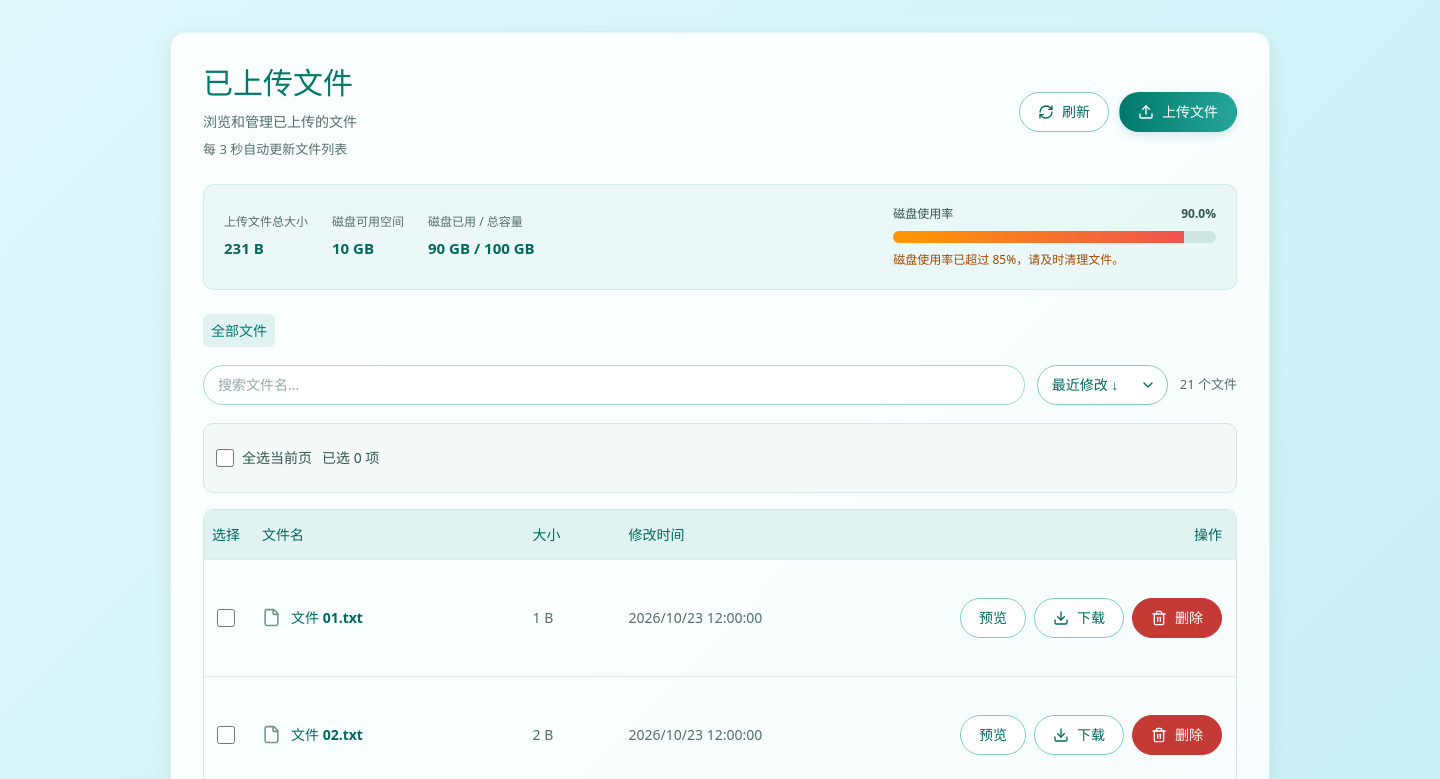
Scenario: keeps the selection after transport failure and blocks duplicate mutations while deleting
This screenshot has width=1440, height=779.
Expected: the text "文件 01.txt" is shown, [291, 607, 363, 628]
Click the checkbox named "选择 文件 01.txt". click: (226, 618)
box: [217, 608, 235, 626]
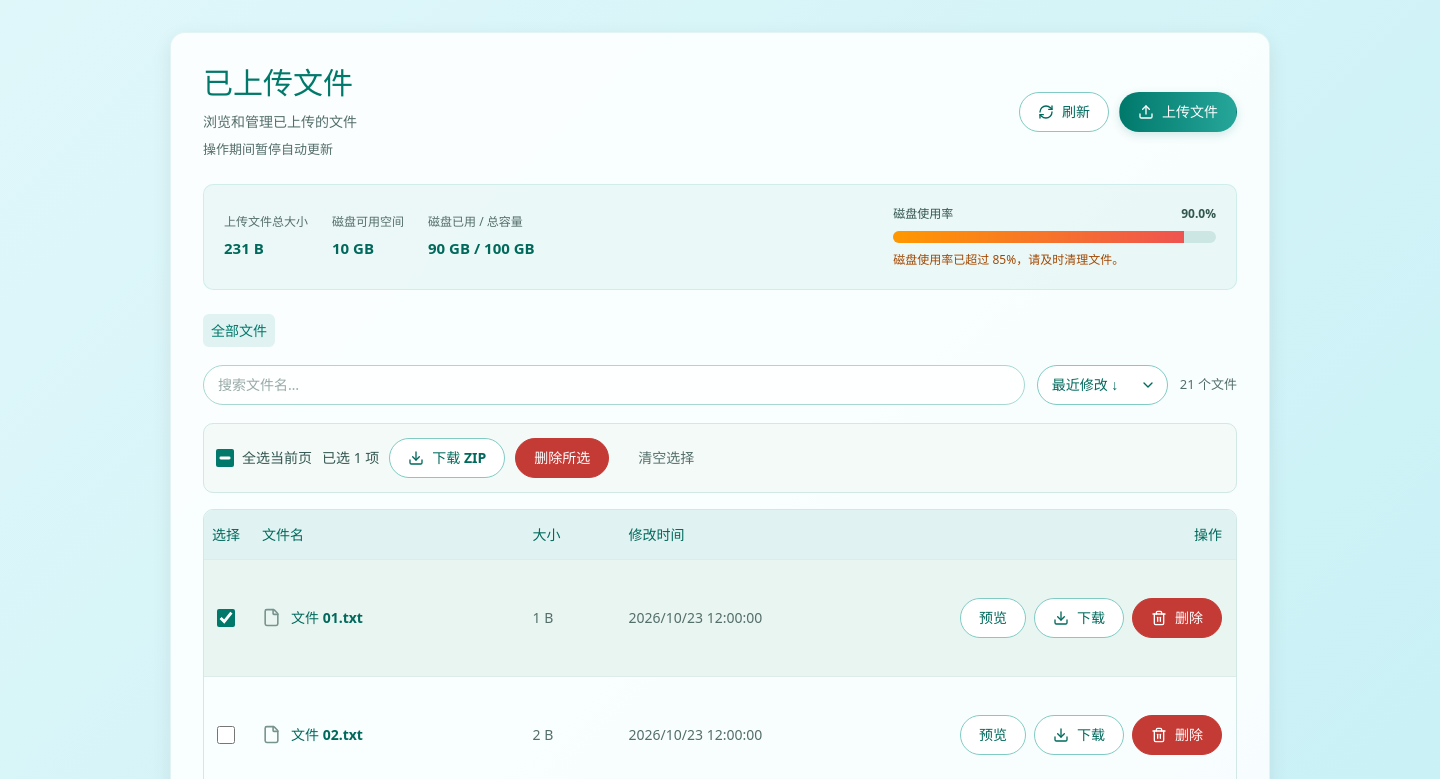
Click the button "删除所选". click: (562, 458)
box: [515, 438, 609, 478]
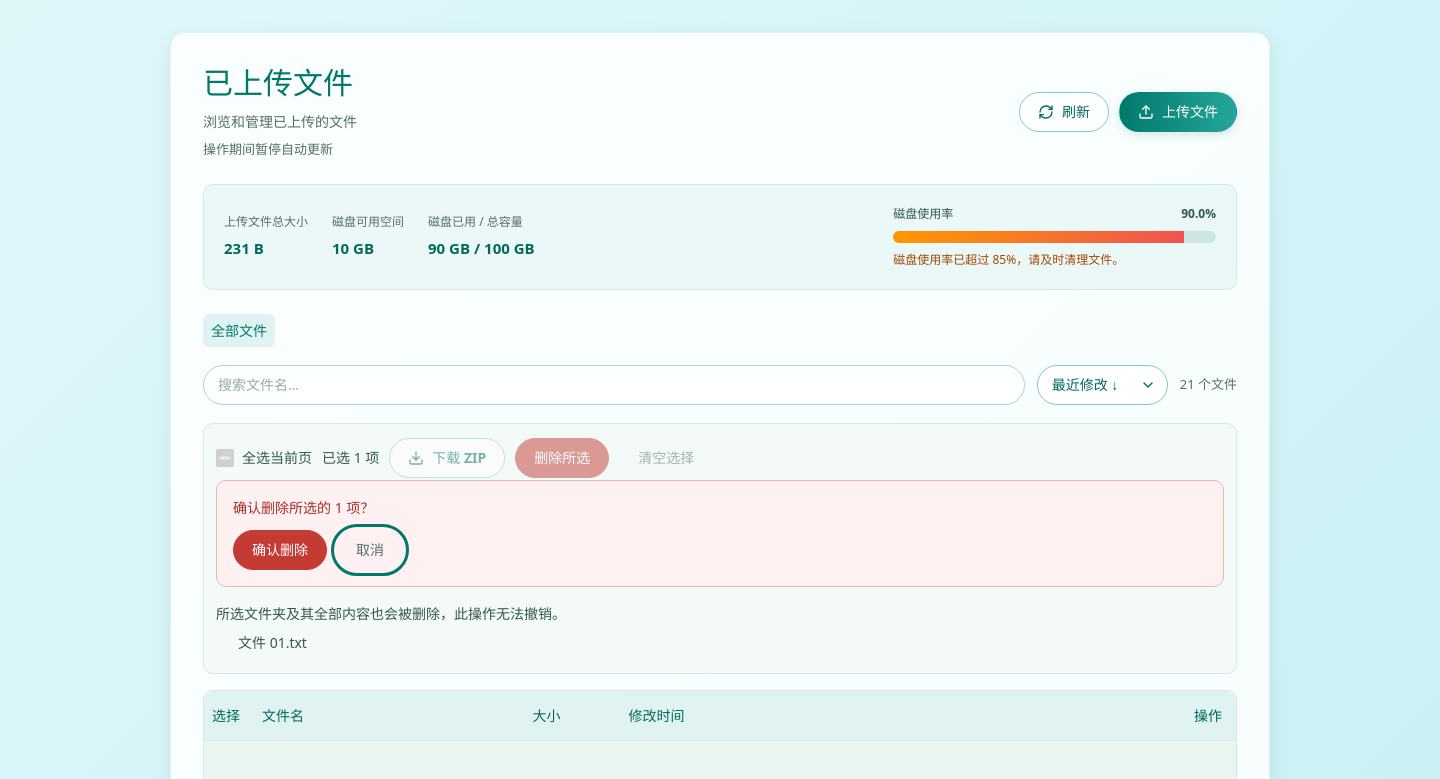
Click the button "确认删除". click: (280, 550)
box: [233, 530, 327, 570]
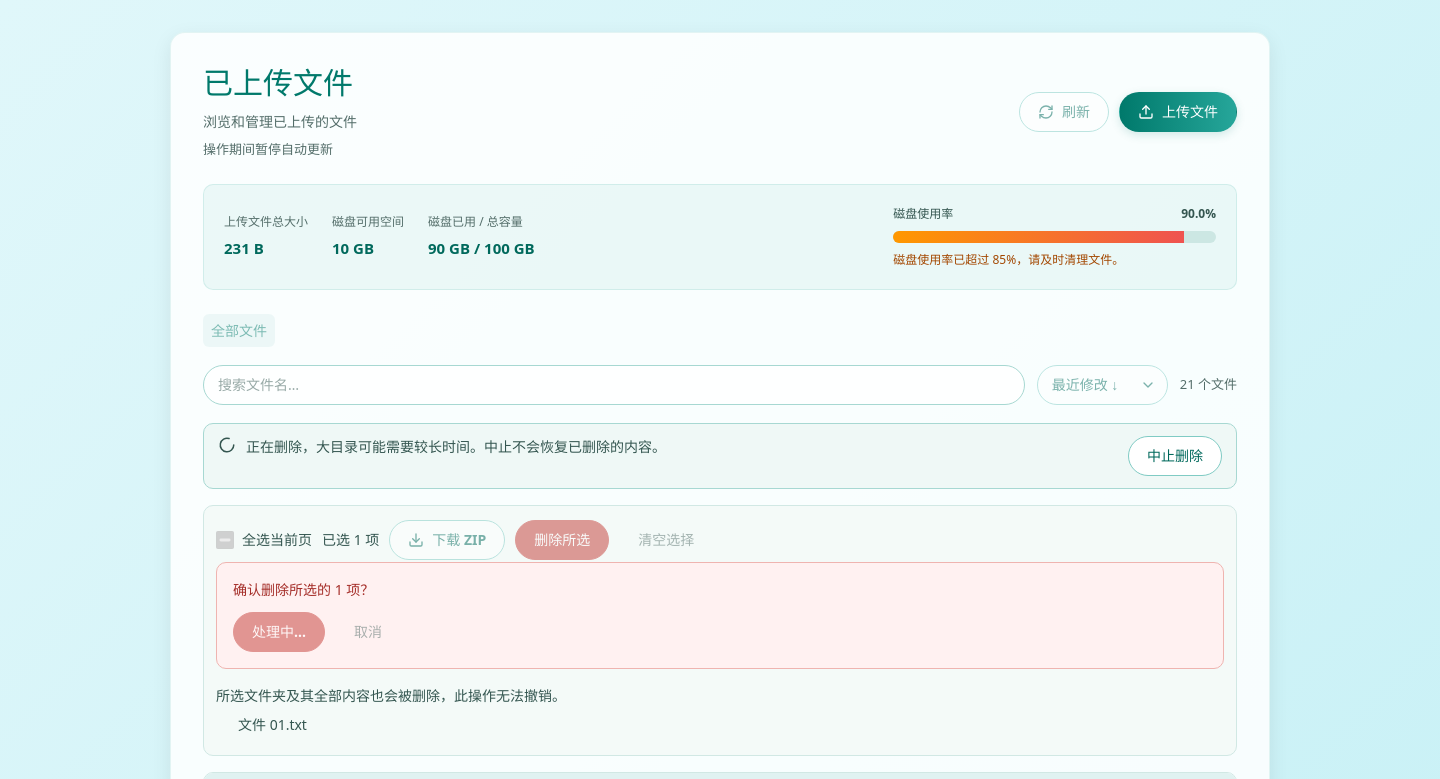
Expected: the search field is disabled, [203, 364, 1025, 404]
Now the checkbox labelled "全选当前页" is disabled, box [216, 530, 234, 548]
Click the button "处理中…". click: (279, 632)
box: [233, 612, 325, 652]
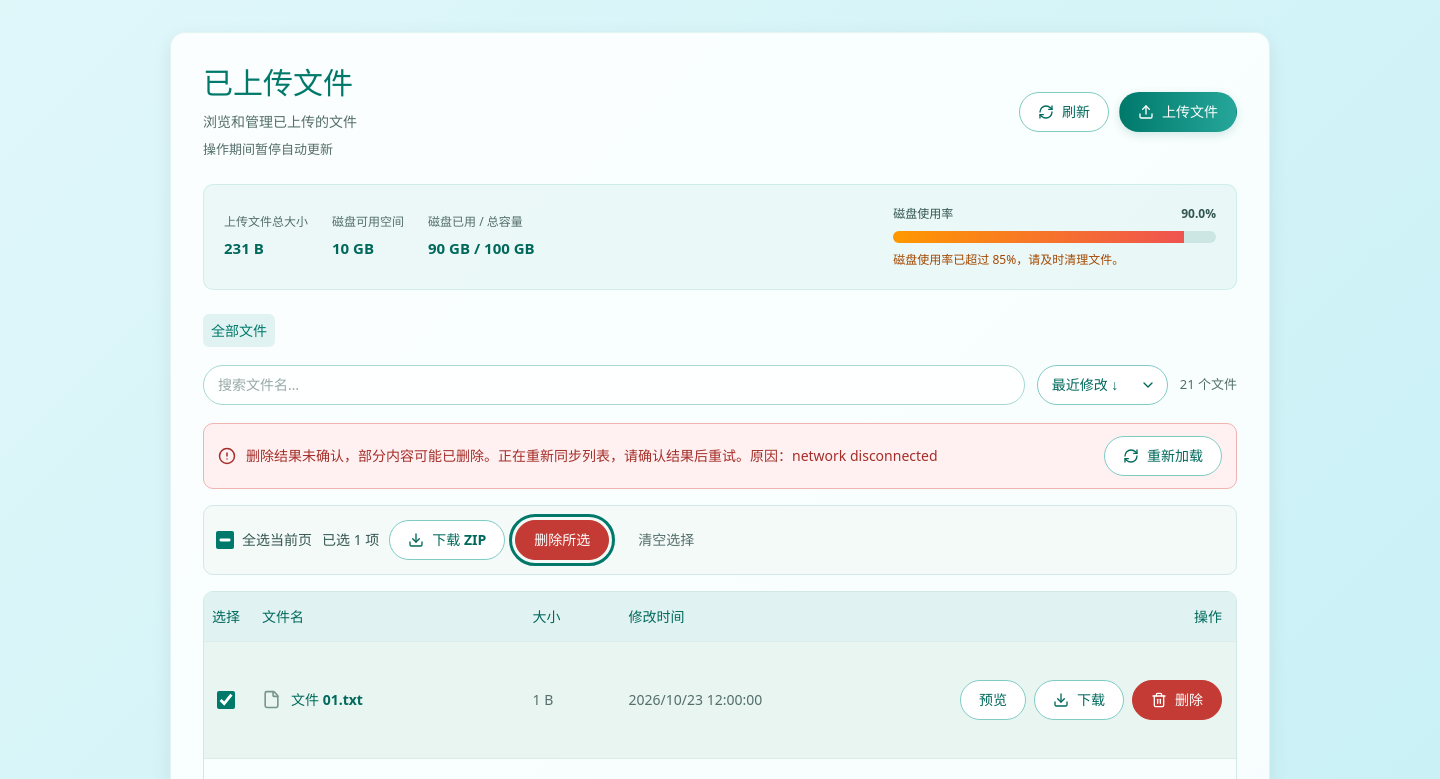
Now the checkbox named "选择 文件 01.txt" is checked, box [217, 690, 235, 708]
Now the text "已选 1 项" is shown, box [322, 529, 379, 550]
Now the message "删除结果未确认，部分内容可能已删除。正在重新同步列表，请确认结果后重试。原因：network disconnected 重新加载" is shown, box [203, 422, 1237, 488]
